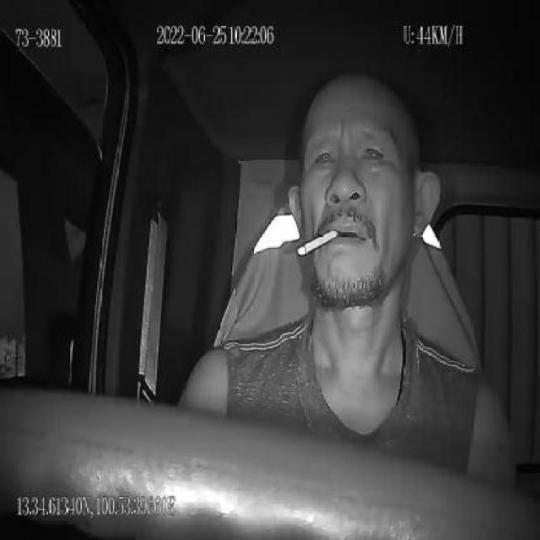smoking: (298, 227, 338, 258)
